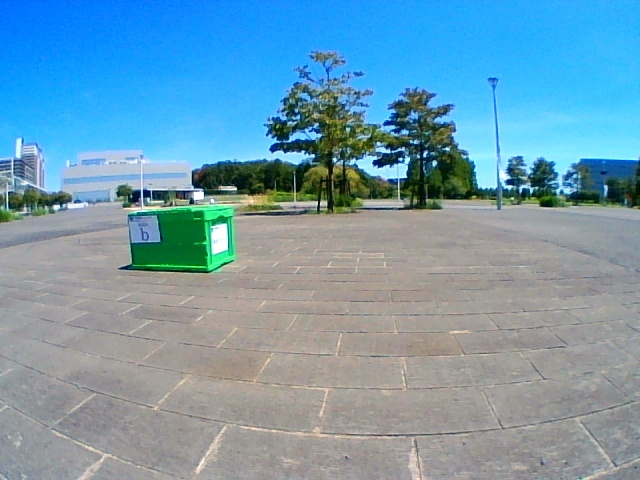green_box: (127, 207, 235, 273)
tag_b: (133, 216, 157, 241)
